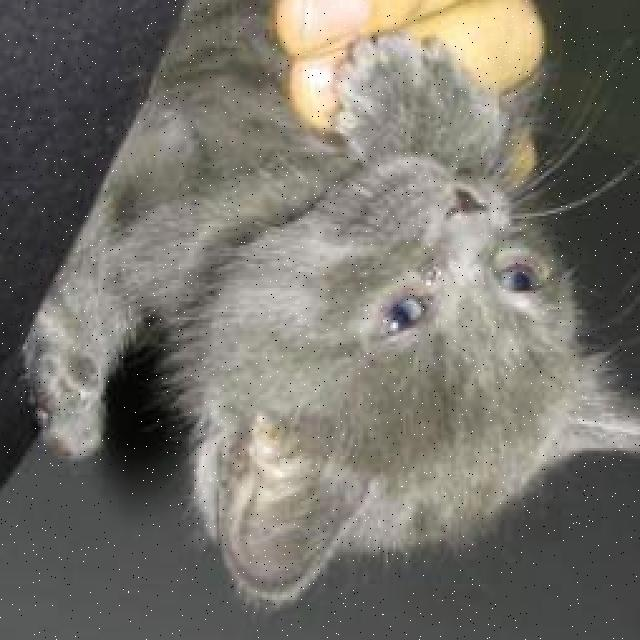Cat: (186, 139, 640, 600)
